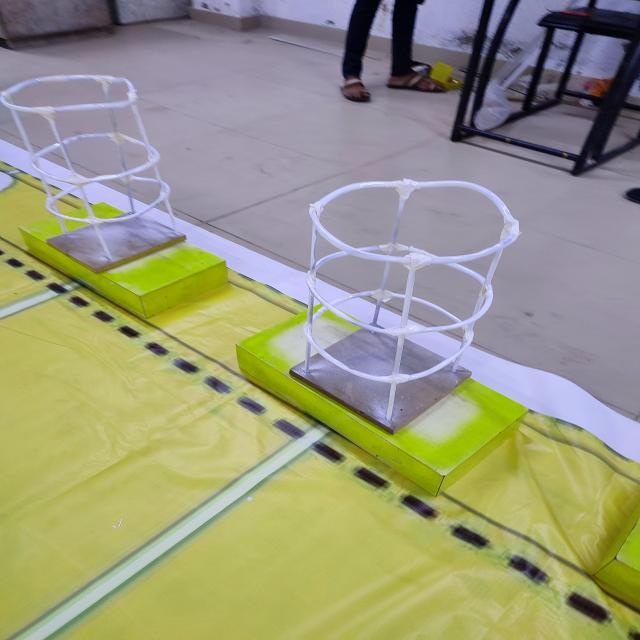silo: (285, 156, 516, 447), (0, 57, 224, 286)
